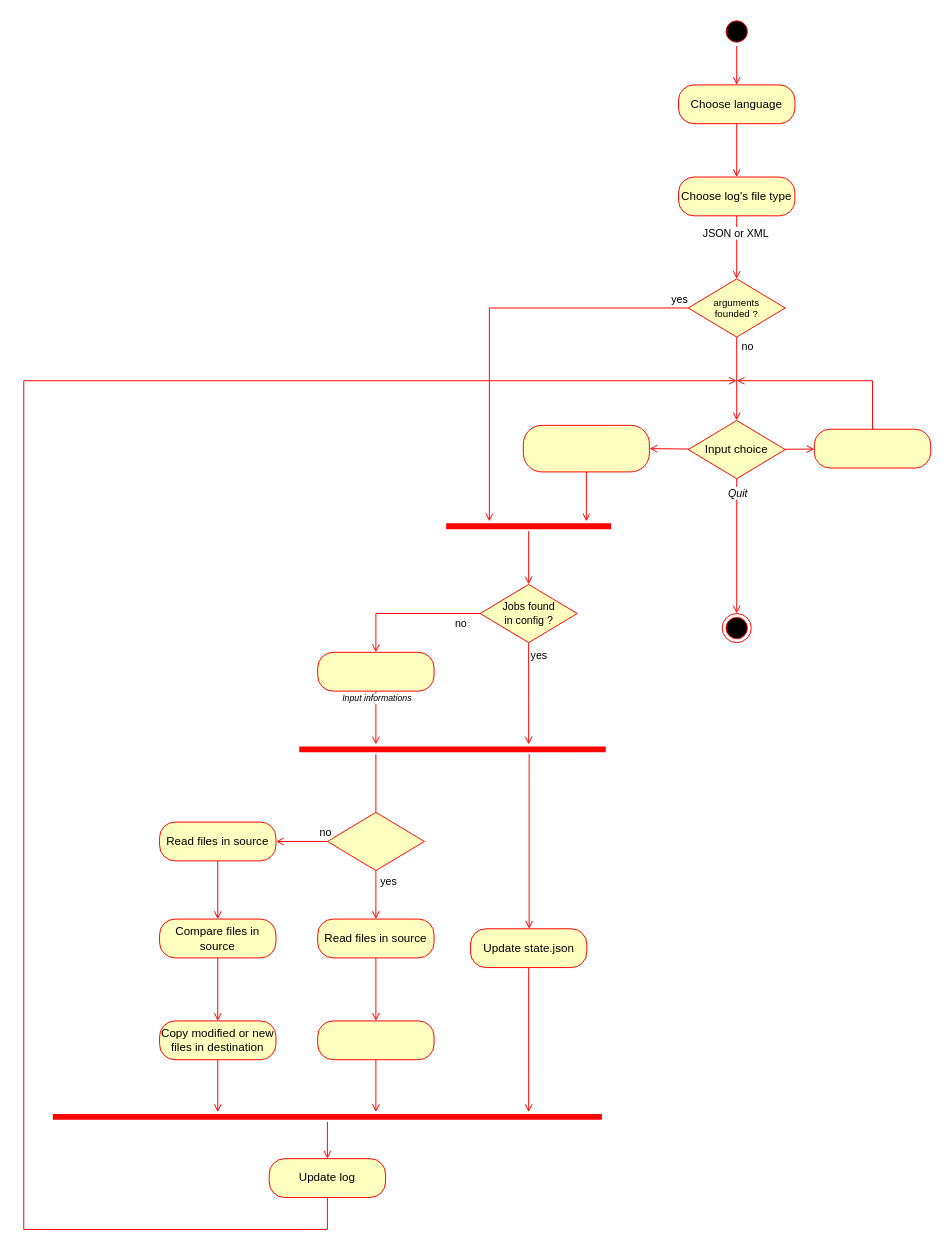
This 948x1254 diagram has some shape labels left out. The centre of each missing label's shape, as x and y in pixels:
"Choose saves to execute" goes at (x=585, y=448).
"Copy files in destination" goes at (x=375, y=1040).
"Create job" goes at (x=375, y=671).
"type = full" goes at (x=375, y=841).
"Wrong Input" goes at (x=872, y=448).
